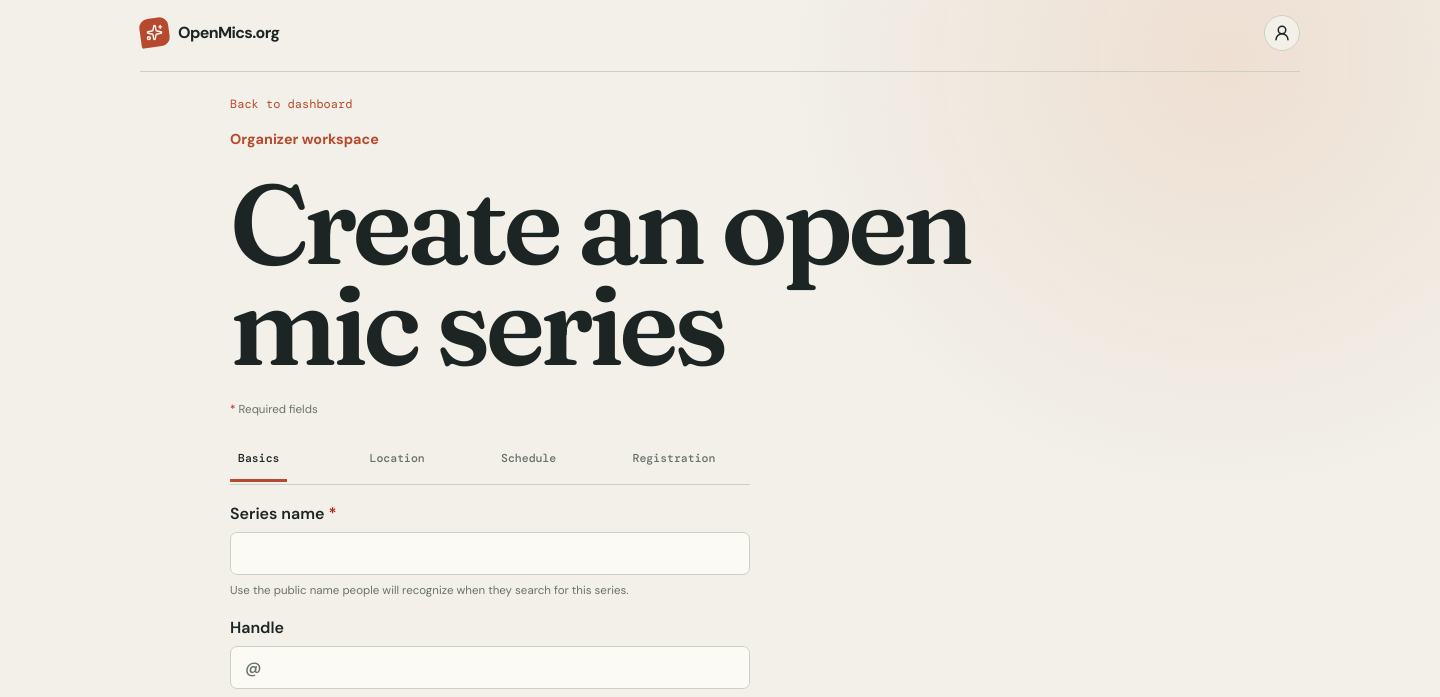
Scenario: OpenMicFormPage website suggestion › tracks the full suggested handle as the series name is typed
Type "my series" into the field labelled "Series name *" at [490, 553], box [230, 532, 750, 574]
(page scrolled)
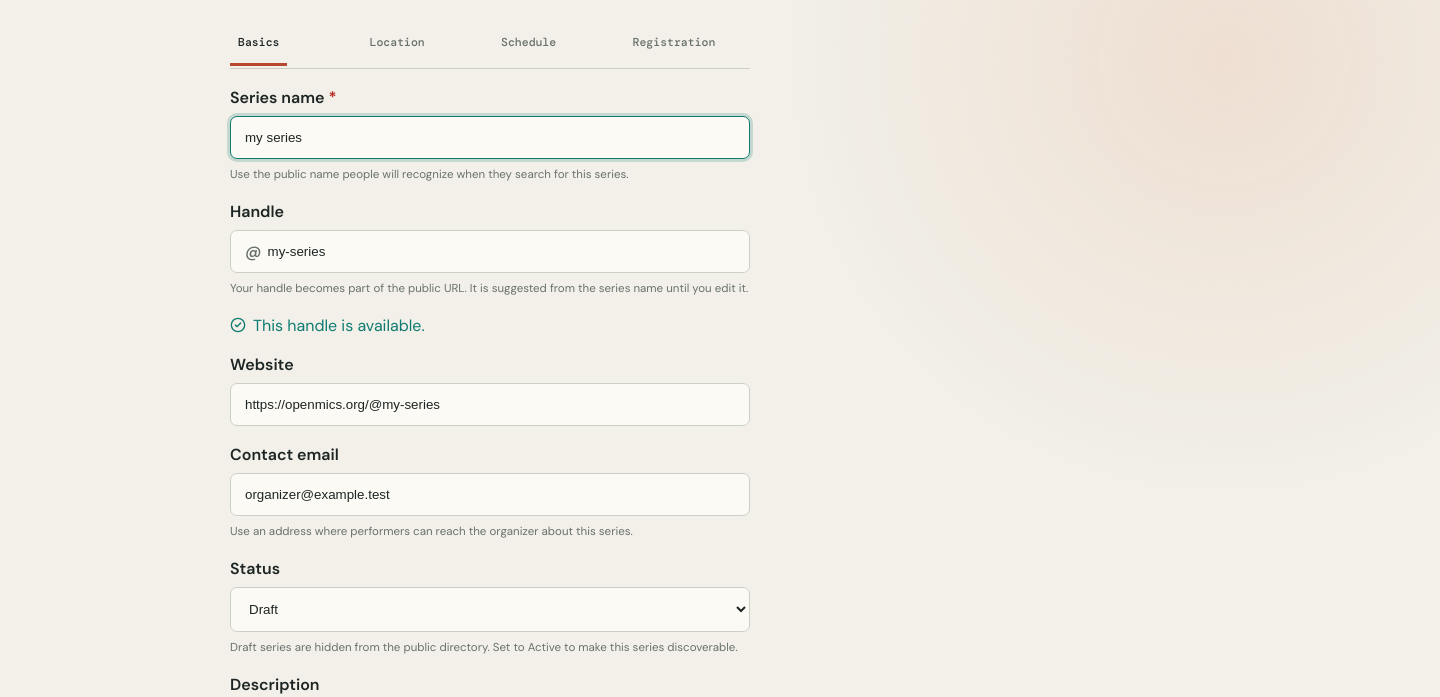
Expected: the field labelled "Handle @" holds "my-series", [262, 231, 749, 272]
Expected: the field labelled "Website" holds "https://openmics.org/@my-series", [230, 383, 750, 426]
